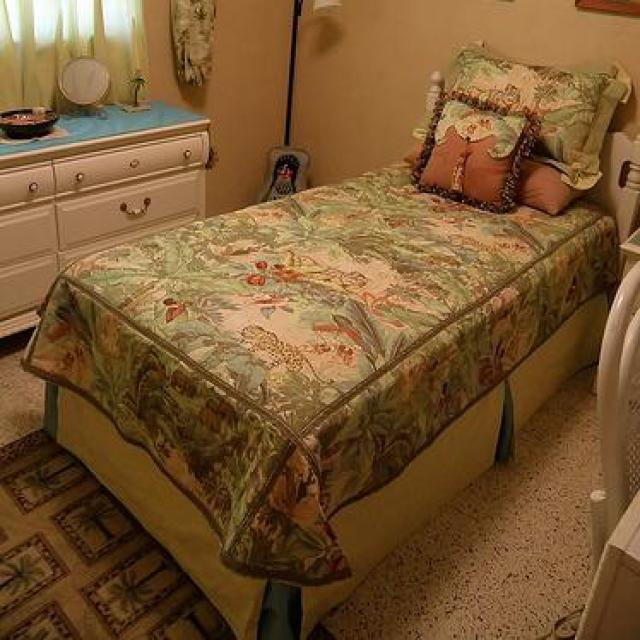bed: (35, 44, 640, 640)
